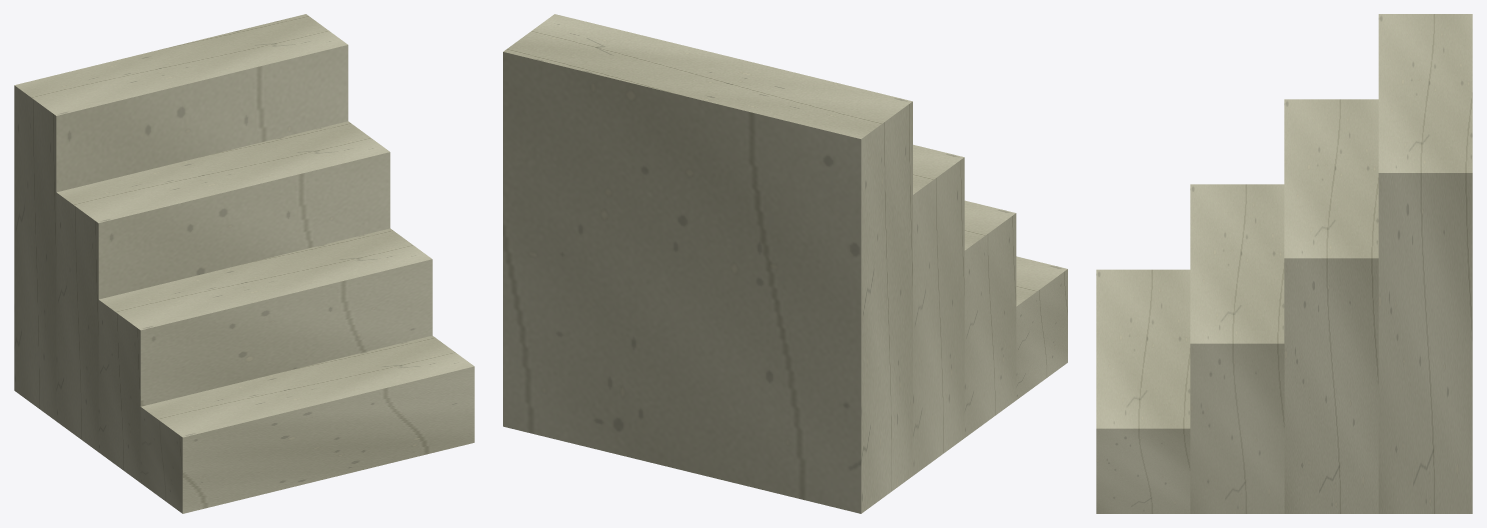
The model's file is stairs.glb.
The picture shows the model from 3 angles, left to right: view 1: azimuth 30°, elevation 25°; view 2: azimuth 150°, elevation 25°; view 3: azimuth 270°, elevation 25°; orthographic projection. The views are drawn at different scales.
Visible parts, largest first — view 1: Cube.003, Cube.002, Cube.001, Cube; view 2: Cube.003, Cube.002, Cube.001, Cube; view 3: Cube.003, Cube.002, Cube.001, Cube.
Part boxes in pixels (box(x1,y1,x2,y2)): Cube.003: box(14, 14, 348, 420); Cube.002: box(56, 121, 390, 451); Cube.001: box(98, 228, 432, 482); Cube: box(140, 335, 474, 513); Cube.003: box(503, 14, 912, 513); Cube.002: box(913, 144, 964, 475); Cube.001: box(964, 200, 1016, 437); Cube: box(1016, 256, 1067, 399); Cube.003: box(1378, 14, 1472, 513); Cube.002: box(1284, 99, 1378, 513); Cube.001: box(1190, 184, 1284, 513); Cube: box(1096, 269, 1190, 513).
Size of the model in its own units: 1 by 1 by 1.
Materials: 1 (1 with a texture image).
